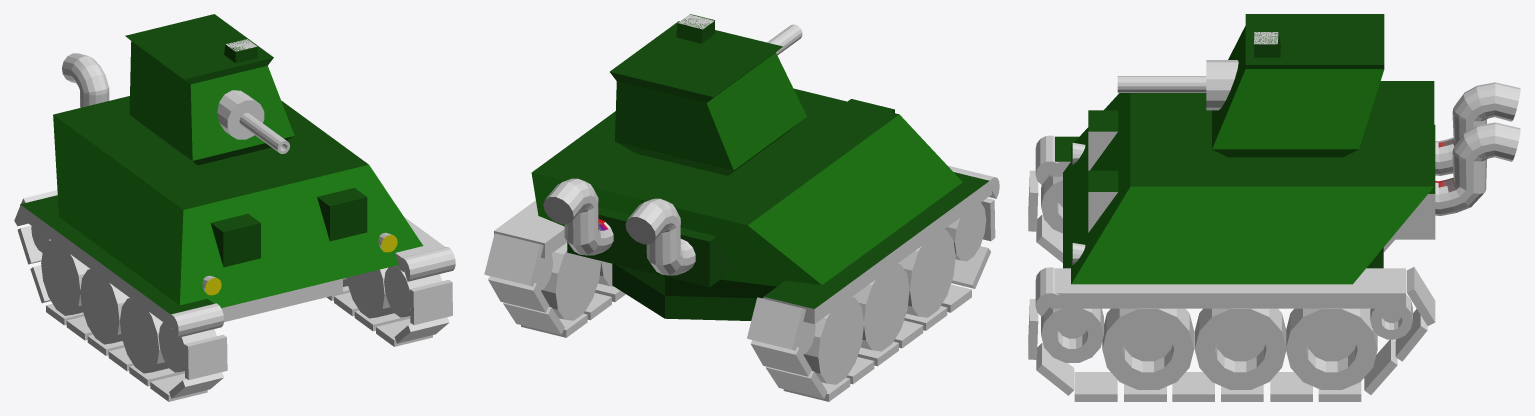
The model's file is Tank.fbx.
3 renders of one model, left to right at view 1: azimuth 30°, elevation 25°; view 2: azimuth 150°, elevation 25°; view 3: azimuth 270°, elevation 25°, orthographic. The views are drawn at different scales.
Parts seen in each view (by area): view 1: Cube; view 2: Cube; view 3: Cube.
Boxes of the visible parts, x1,y1,x2,y2 form: Cube: (14, 14, 455, 401); Cube: (484, 14, 999, 401); Cube: (1028, 14, 1520, 401).
Bounding box in the file's own units: 4.43 × 3.95 × 5.84.
